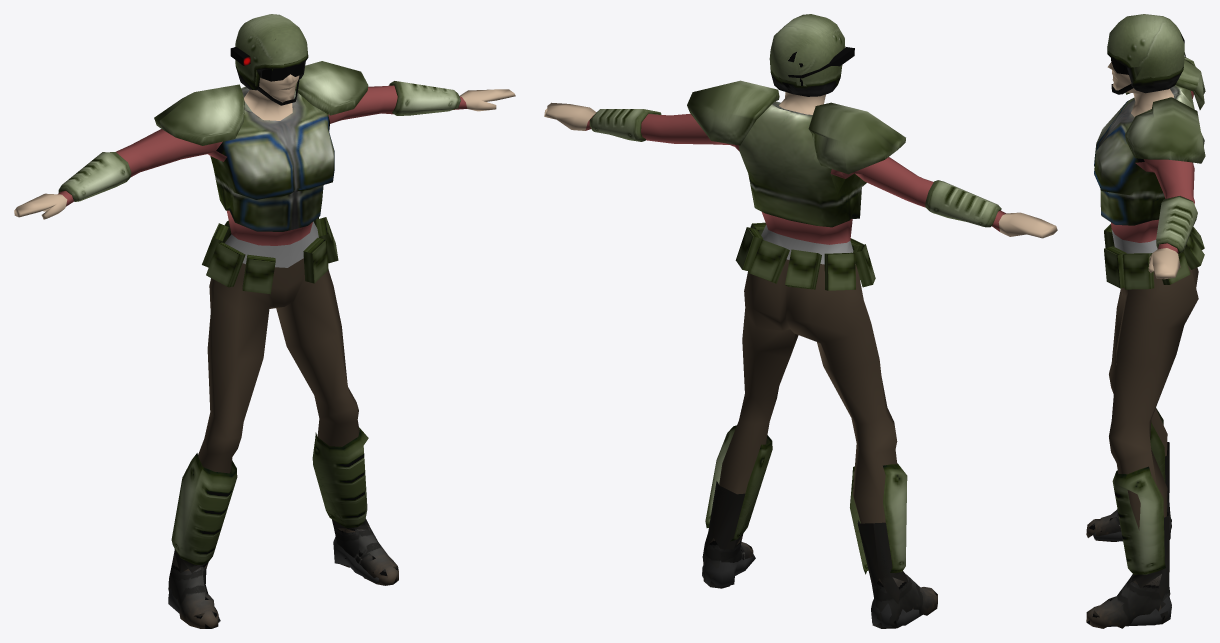
The model's file is Karpov_CA_Female.obj.
3 renders of one model, left to right at view 1: azimuth 30°, elevation 25°; view 2: azimuth 150°, elevation 25°; view 3: azimuth 270°, elevation 25°, orthographic. The views are drawn at different scales.
Parts seen in each view (by area): view 1: Body, Object01, Object03, Object04, Object02; view 2: Body, Object03, Object01, Object04, Object02; view 3: Body, Object01, Object03, Object04, Object02.
Boxes of the visible parts, x1,y1,x2,y2 form: Body: (14, 74, 515, 621); Object01: (168, 427, 398, 628); Object03: (154, 61, 368, 294); Object04: (230, 14, 308, 105); Object02: (58, 81, 460, 201); Body: (544, 92, 1057, 627); Object03: (687, 80, 905, 290); Object01: (702, 425, 937, 628); Object04: (769, 14, 854, 96); Object02: (589, 109, 1001, 227); Body: (1093, 62, 1198, 626); Object01: (1086, 408, 1171, 628); Object03: (1104, 59, 1205, 289); Object04: (1107, 14, 1185, 94); Object02: (1156, 57, 1197, 253).
Size of the model in its own units: 2.26 by 2.45 by 0.4725.
